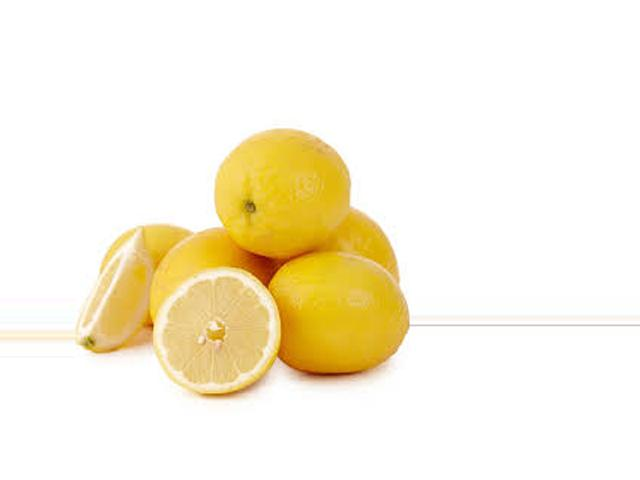lemon: (255, 229, 405, 383)
